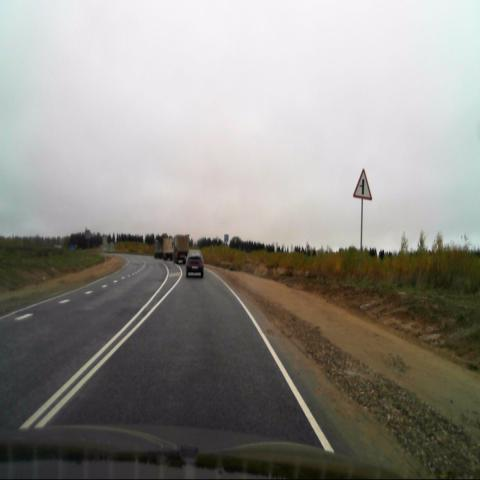2_3_3: (352, 167, 372, 201)
